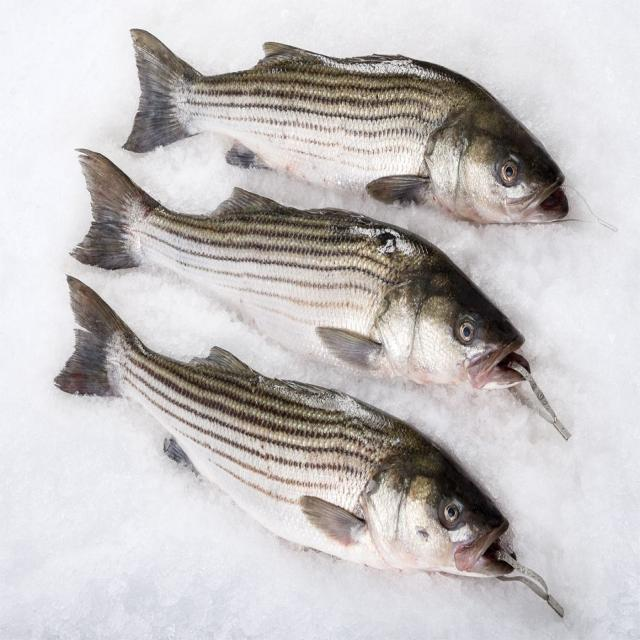Bass - Striped: (55, 276, 563, 616), (73, 149, 568, 437), (125, 30, 568, 223)
